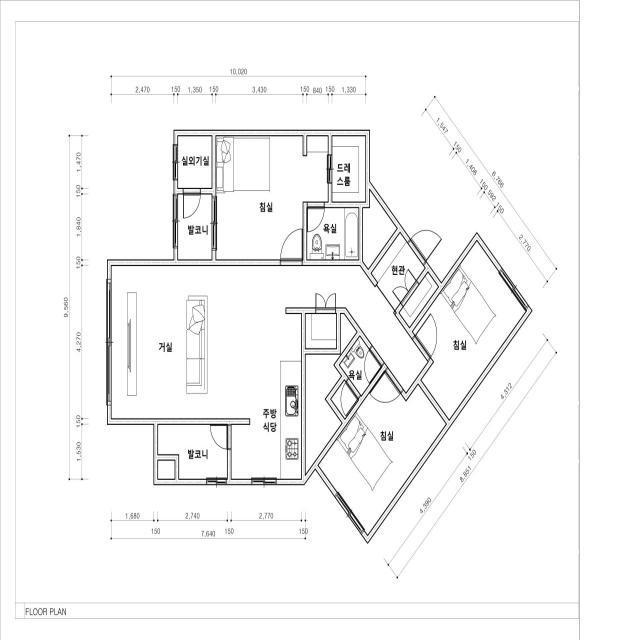space_balconi: (158, 425, 228, 479), (178, 194, 212, 260)
space_bedroom: (318, 371, 446, 535), (413, 241, 526, 420), (216, 136, 328, 260)
space_dressroom: (332, 136, 366, 202)
space_front: (371, 233, 438, 327)
space_kitchen: (231, 361, 301, 479)
space_living_room: (111, 266, 427, 419)
space_other: (306, 354, 341, 474), (363, 190, 397, 269), (306, 314, 336, 349), (341, 314, 357, 354), (158, 461, 175, 479)
space_outdoor_room: (178, 136, 212, 188)
space_toilet: (331, 336, 381, 419), (307, 208, 358, 260)
